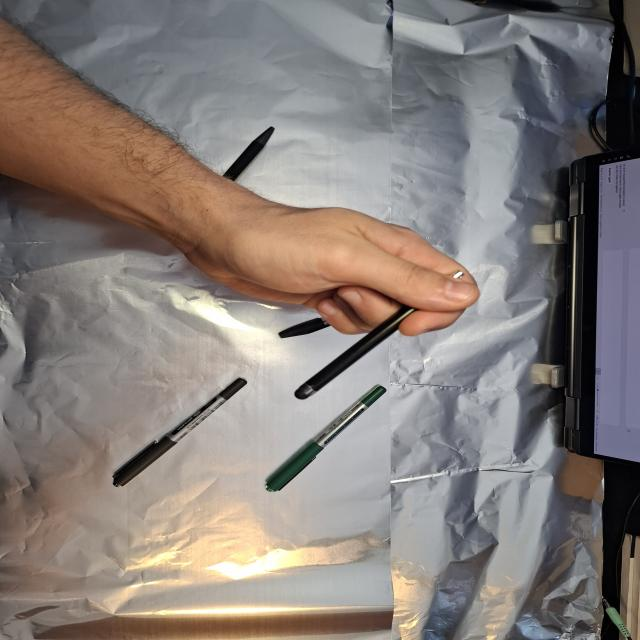glove_off: (171, 192, 482, 338)
